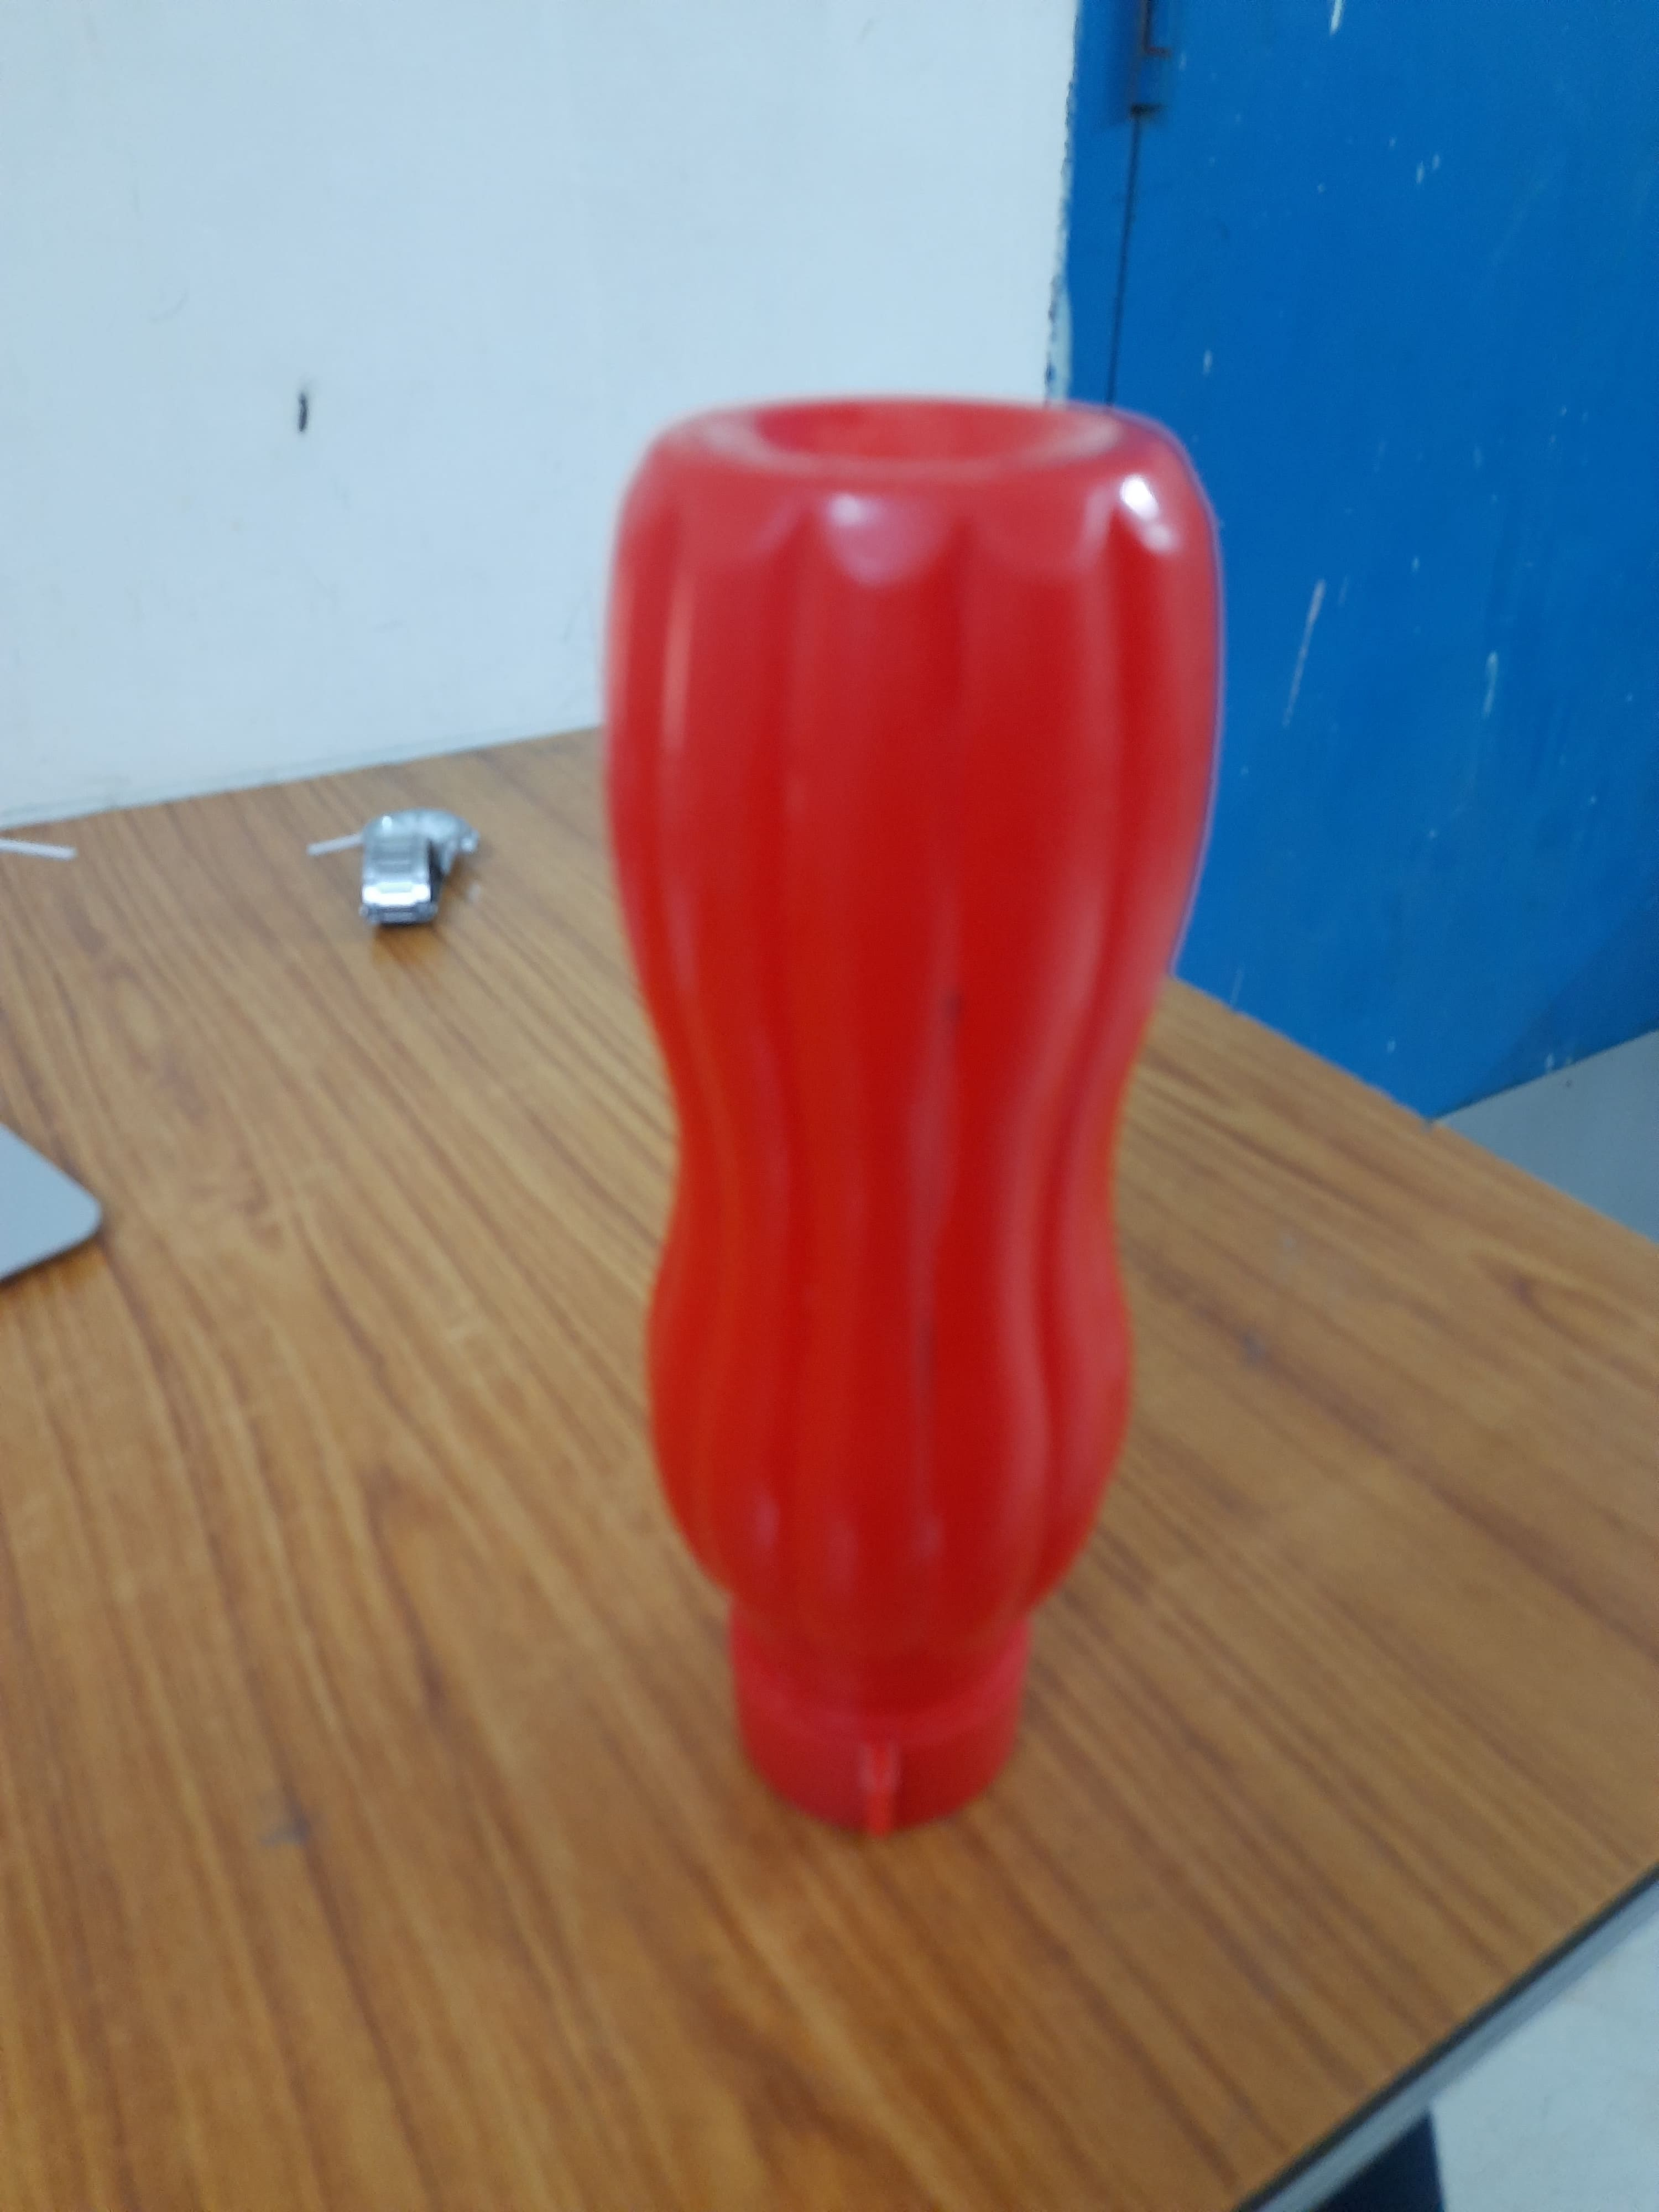Vikash's Water Bottle: (587, 373, 1232, 1893)
